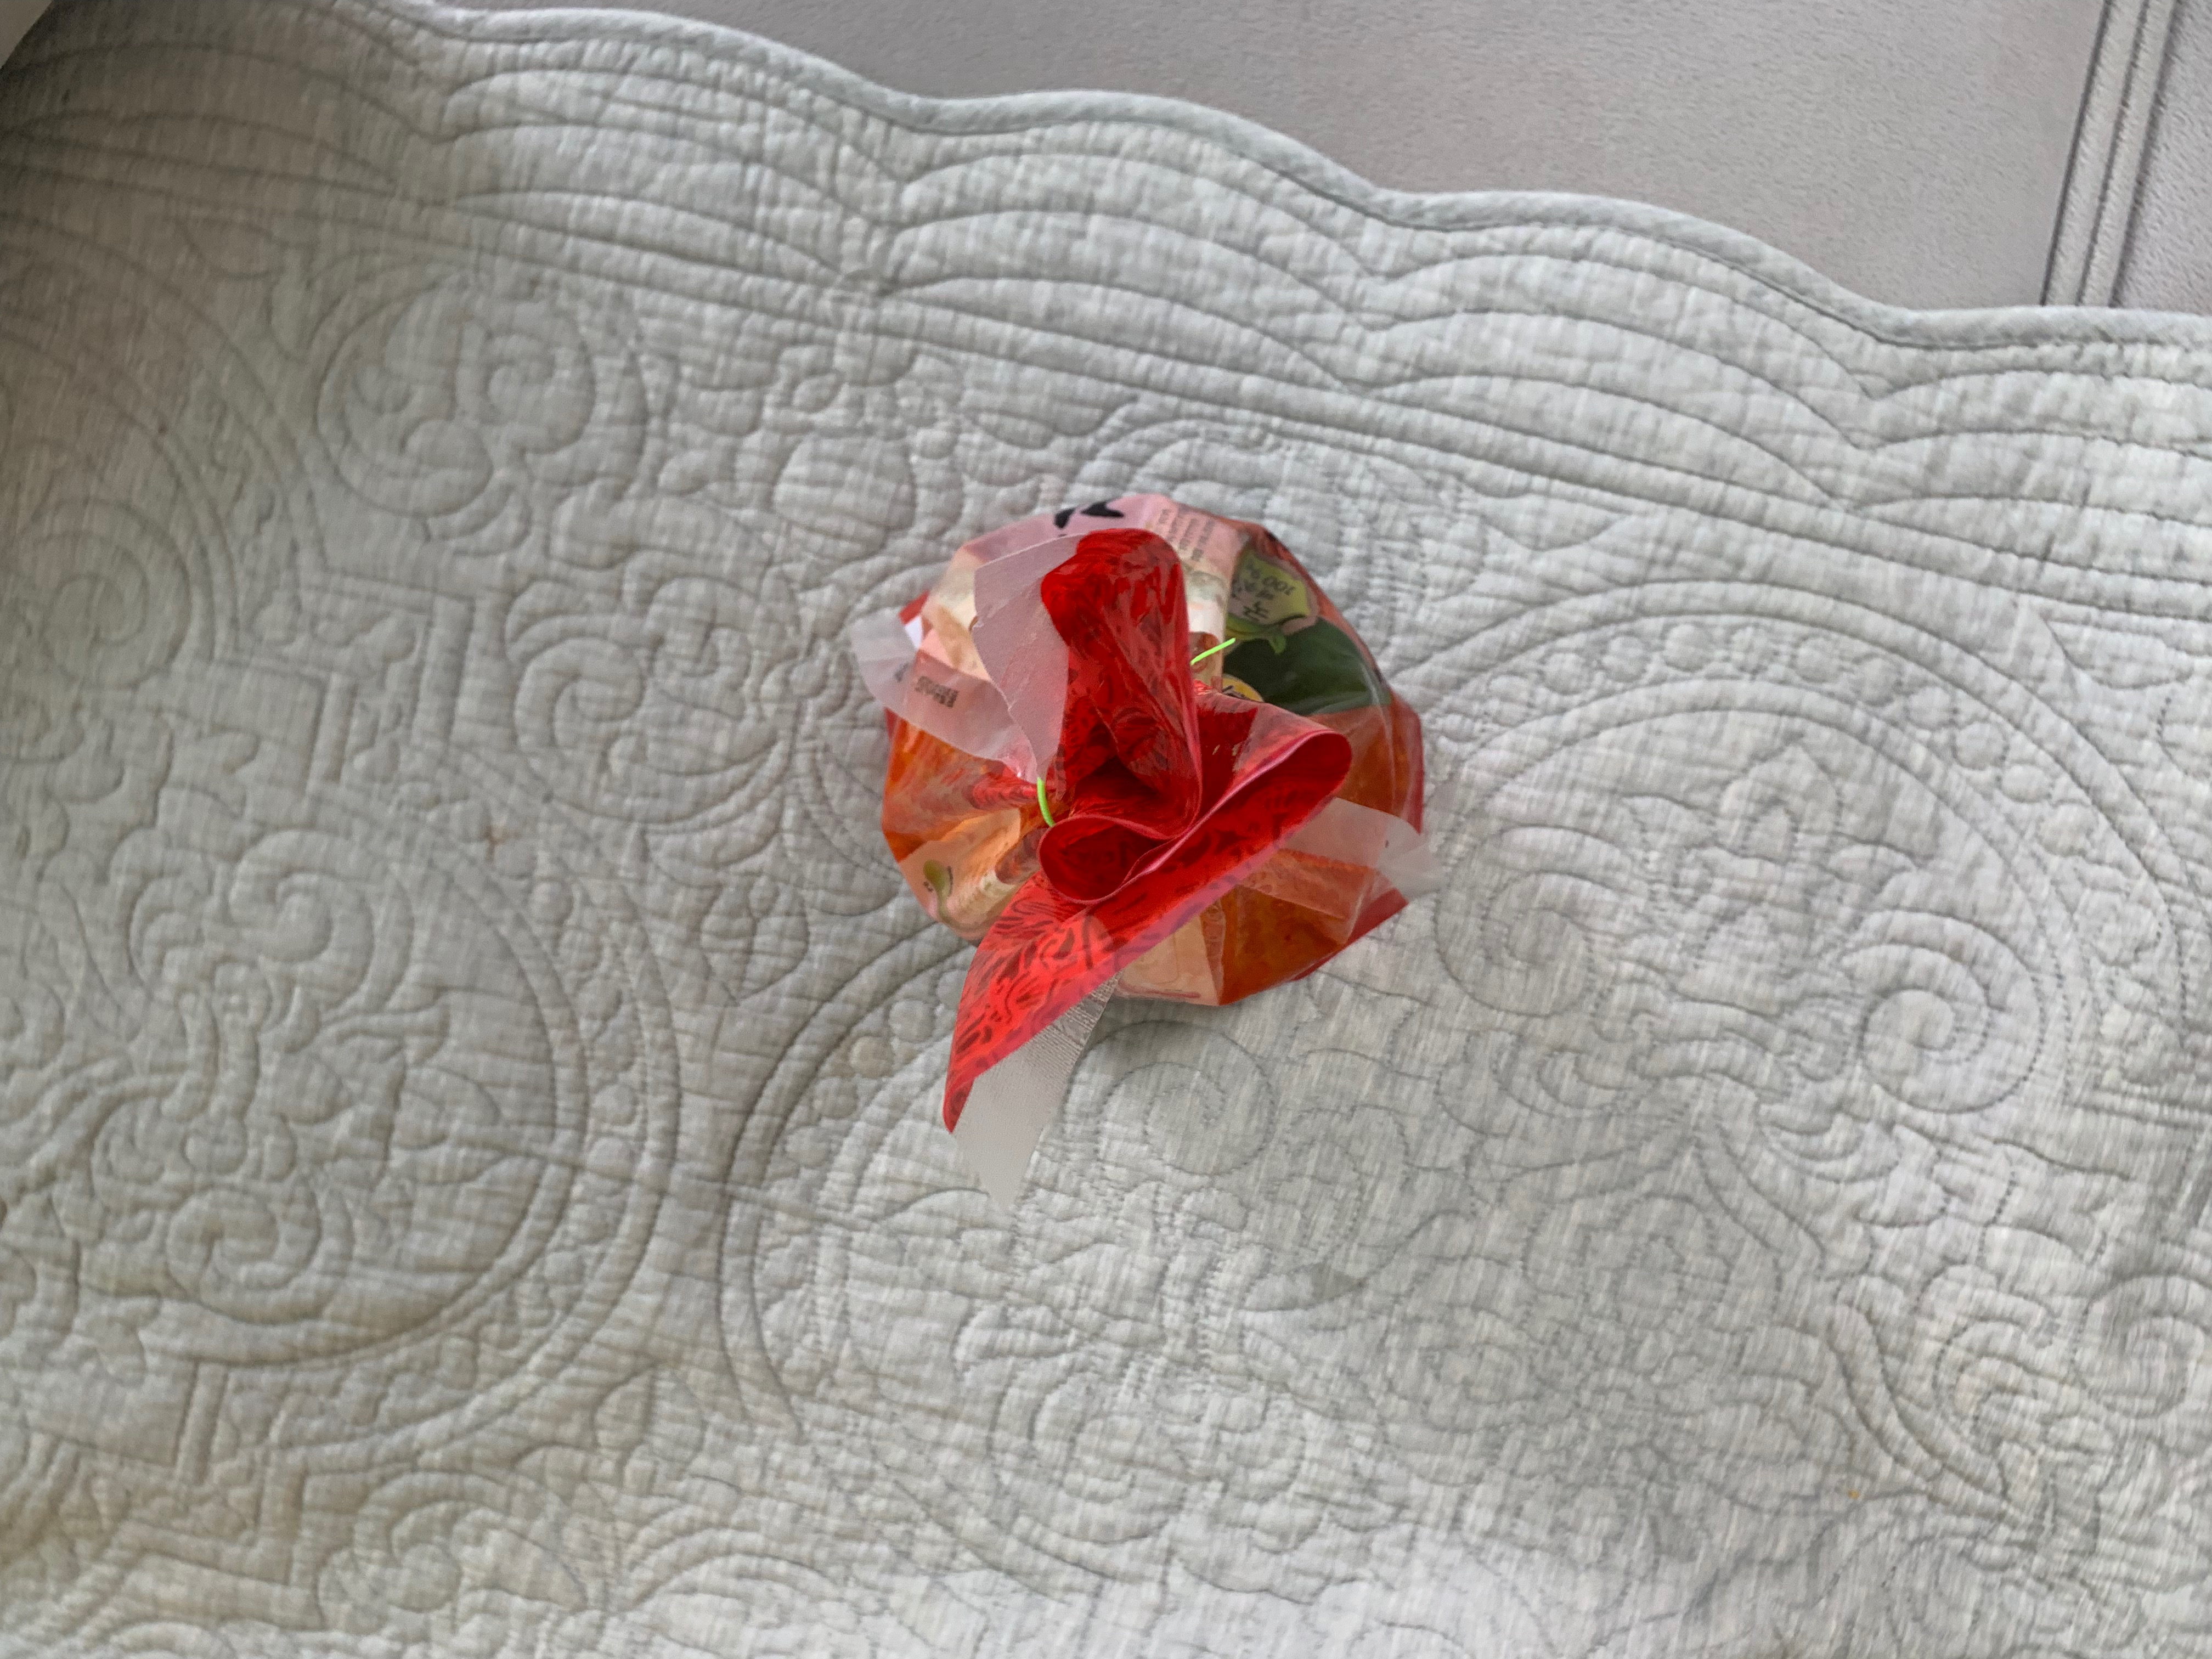kimchi: (887, 490, 1426, 1119)
